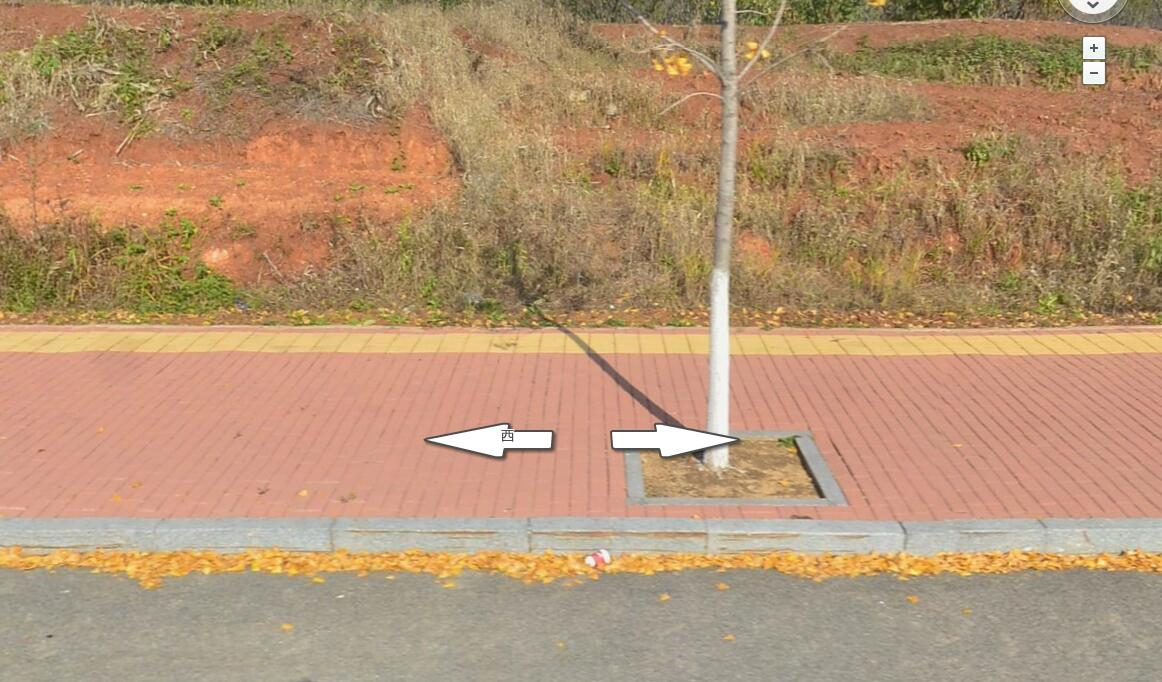side: (330, 516, 535, 555), (707, 517, 907, 554), (152, 516, 333, 555), (533, 516, 709, 556), (902, 521, 1051, 558)
